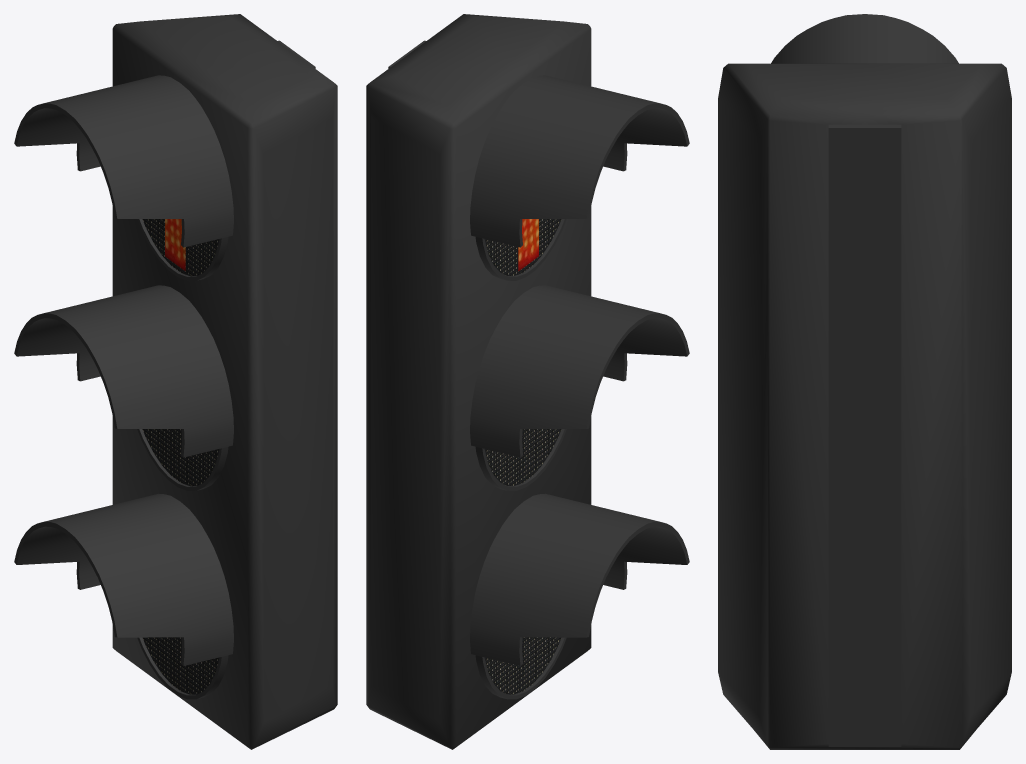
Rendered from 竖排直行灯_RedLight.fbx.
The picture shows the model from 3 angles, left to right: view 1: azimuth 30°, elevation 25°; view 2: azimuth 150°, elevation 25°; view 3: azimuth 270°, elevation 25°; orthographic projection.
Parts seen in each view (by area): view 1: 竖排直行灯_RedLight; view 2: 竖排直行灯_RedLight; view 3: 竖排直行灯_RedLight.
Boxes of the visible parts, x1=… form: 竖排直行灯_RedLight: x1=14, y1=14, x2=337, y2=749; 竖排直行灯_RedLight: x1=366, y1=14, x2=689, y2=749; 竖排直行灯_RedLight: x1=718, y1=14, x2=1011, y2=749.
Size of the model in its own units: 0.6 by 1.58 by 0.65.
3 materials, 2 textured.
